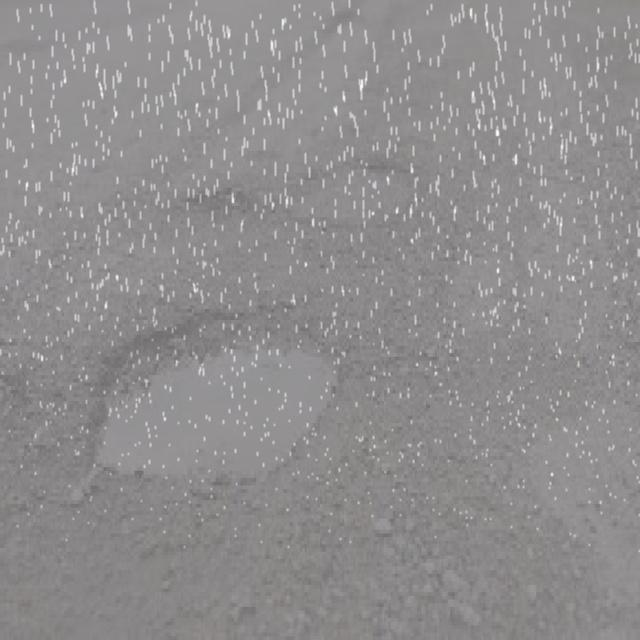Pothole: (60, 292, 349, 516), (335, 147, 412, 190), (173, 180, 246, 222)
